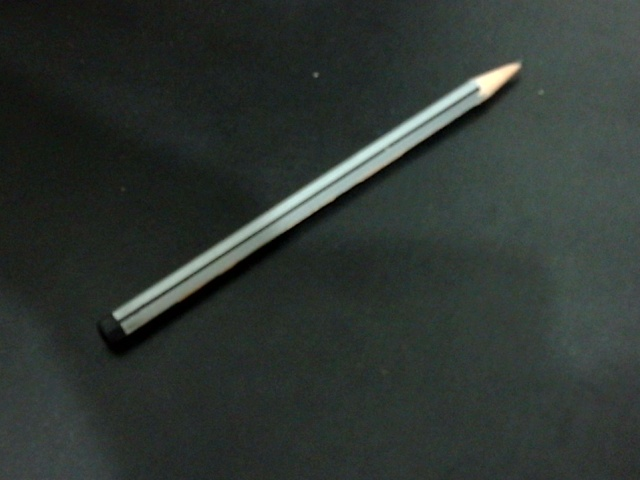pencil: (80, 44, 536, 387)
